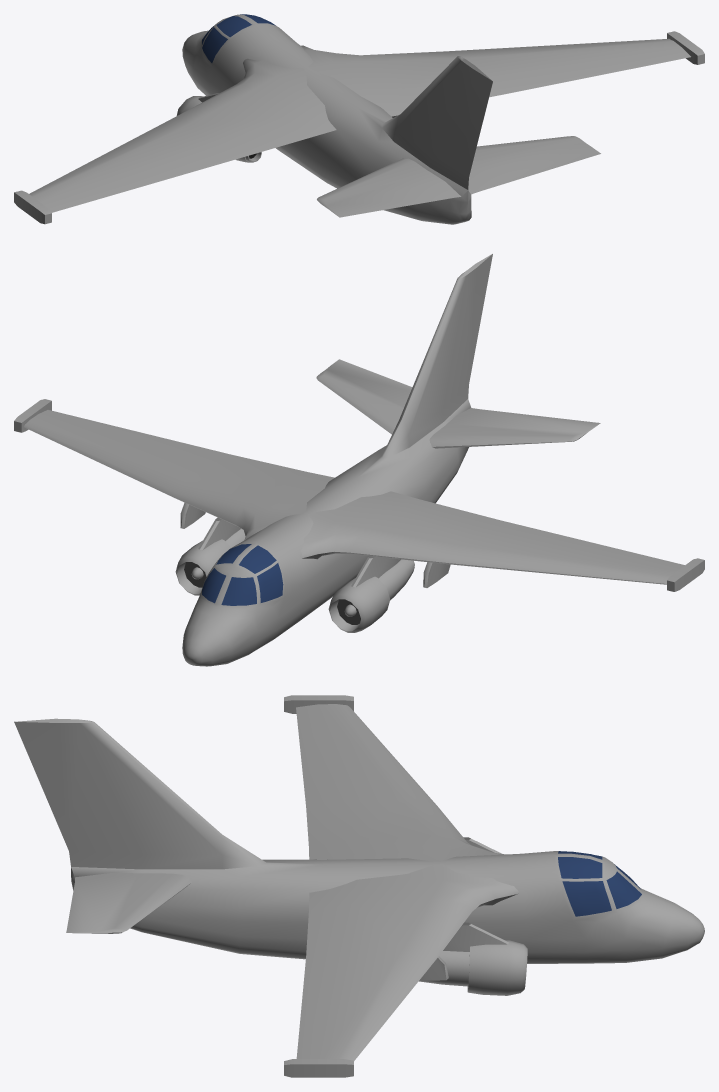
File: s3_Viking.glb
3 views of the same model, one above another, from view 1: azimuth 30°, elevation 25°; view 2: azimuth 150°, elevation 25°; view 3: azimuth 270°, elevation 25° (orthographic). The views are drawn at different scales.
Parts seen in each view (by area): view 1: s3_Viking.001; view 2: s3_Viking.001; view 3: s3_Viking.001.
Part boxes in pixels (x1=…): s3_Viking.001: x1=14, y1=14, x2=704, y2=224; s3_Viking.001: x1=14, y1=254, x2=704, y2=666; s3_Viking.001: x1=14, y1=695, x2=704, y2=1077.
Bounding box in the file's own units: 1.26 × 0.3727 × 1.
